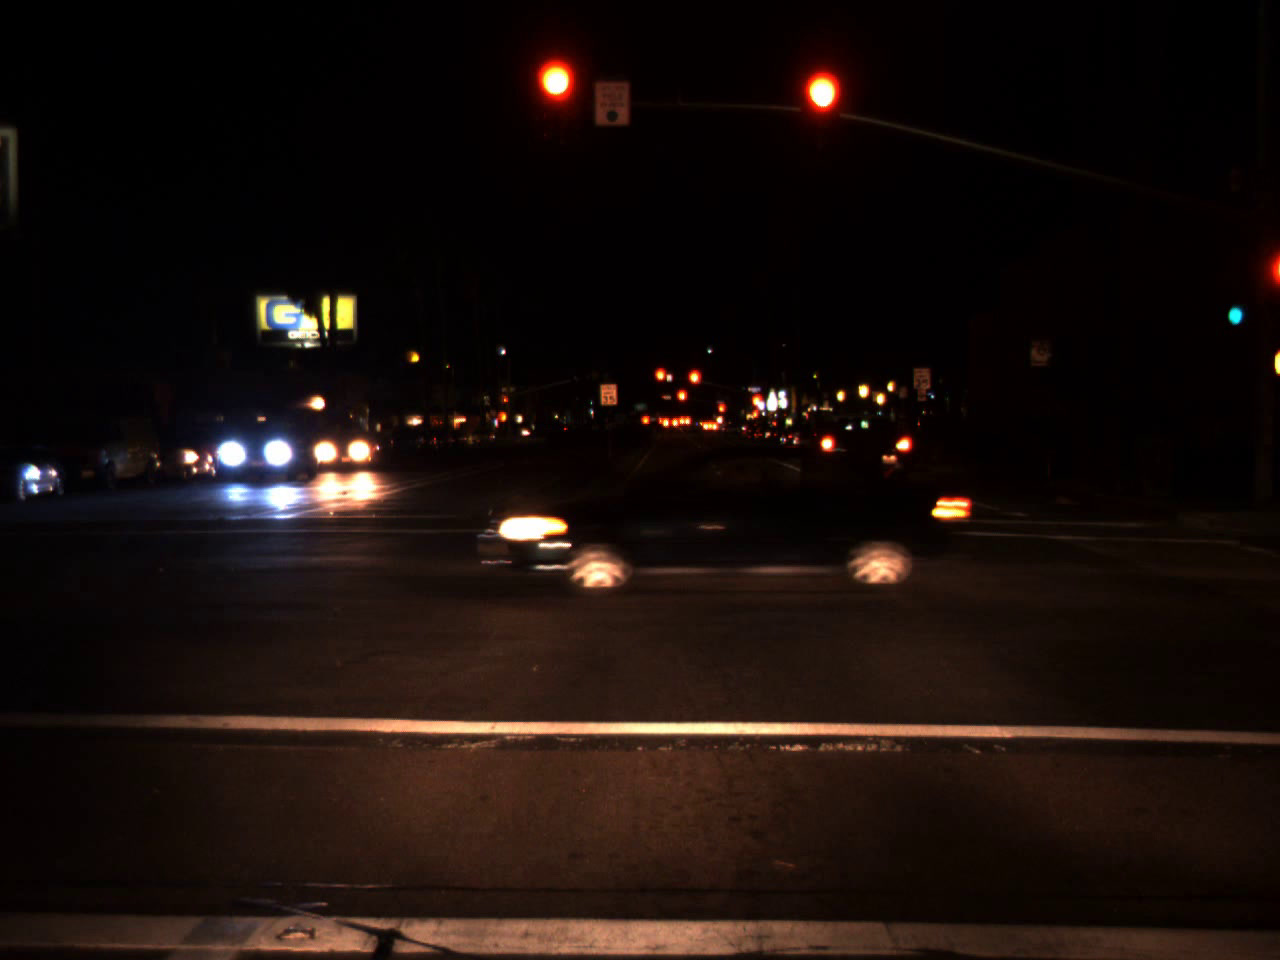stop: (537, 61, 577, 139), (801, 71, 840, 149), (686, 366, 702, 401), (653, 367, 666, 394), (676, 387, 688, 414), (749, 393, 764, 409), (717, 402, 724, 423), (503, 397, 509, 407)
